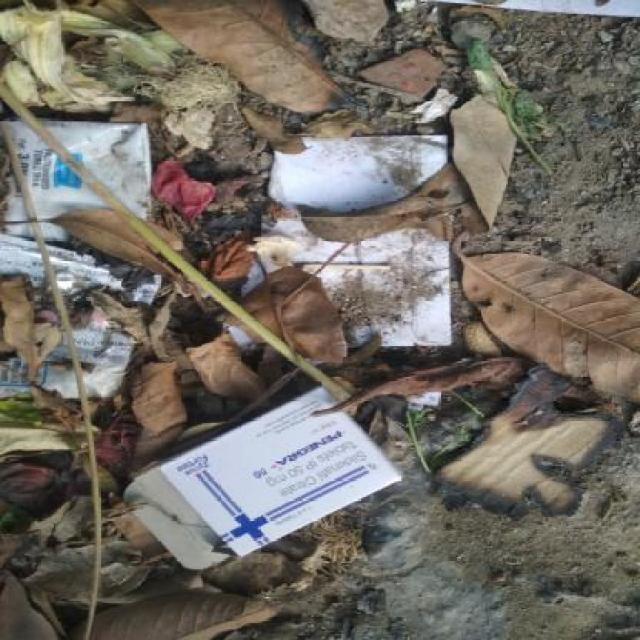garbage: (0, 250, 633, 496), (215, 14, 638, 242), (15, 509, 422, 638), (1, 12, 156, 244)
